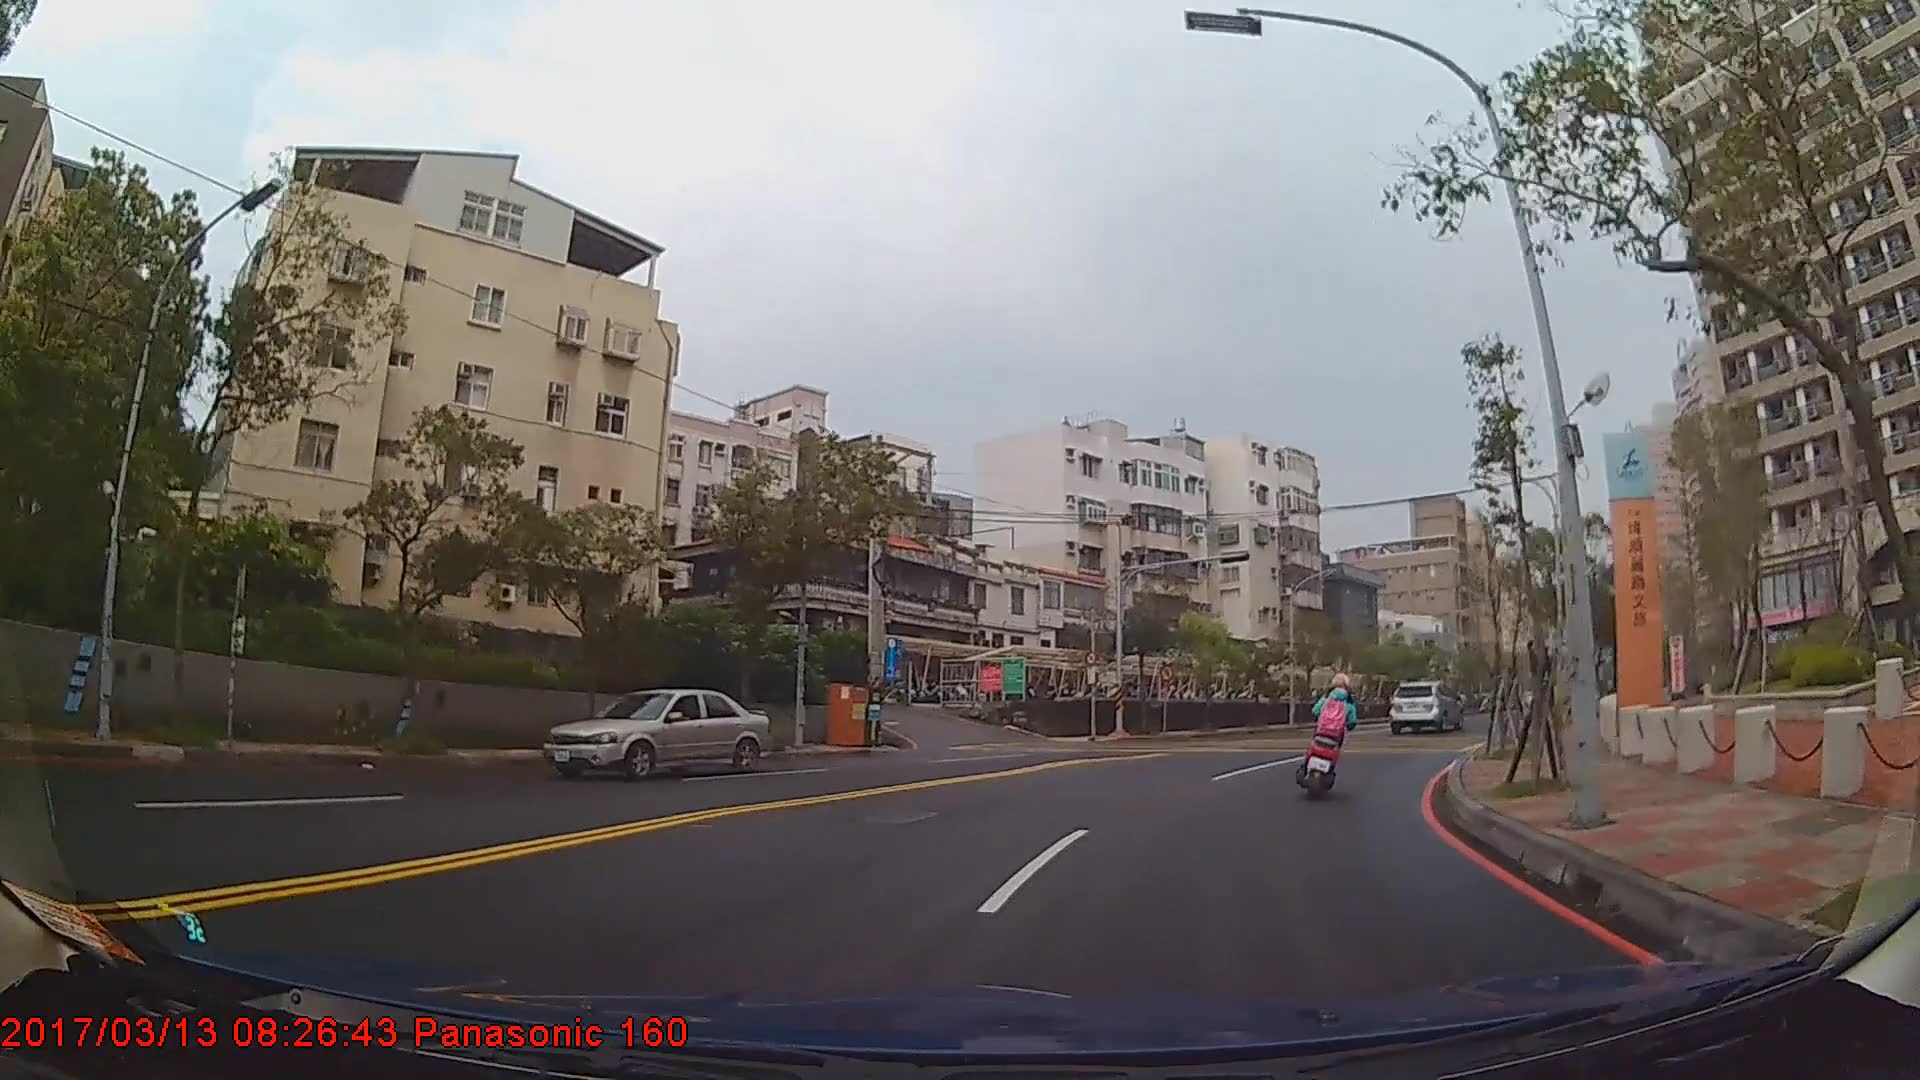rider: (1302, 673, 1362, 795)
vehicle: (543, 689, 773, 784), (1389, 678, 1459, 734)
